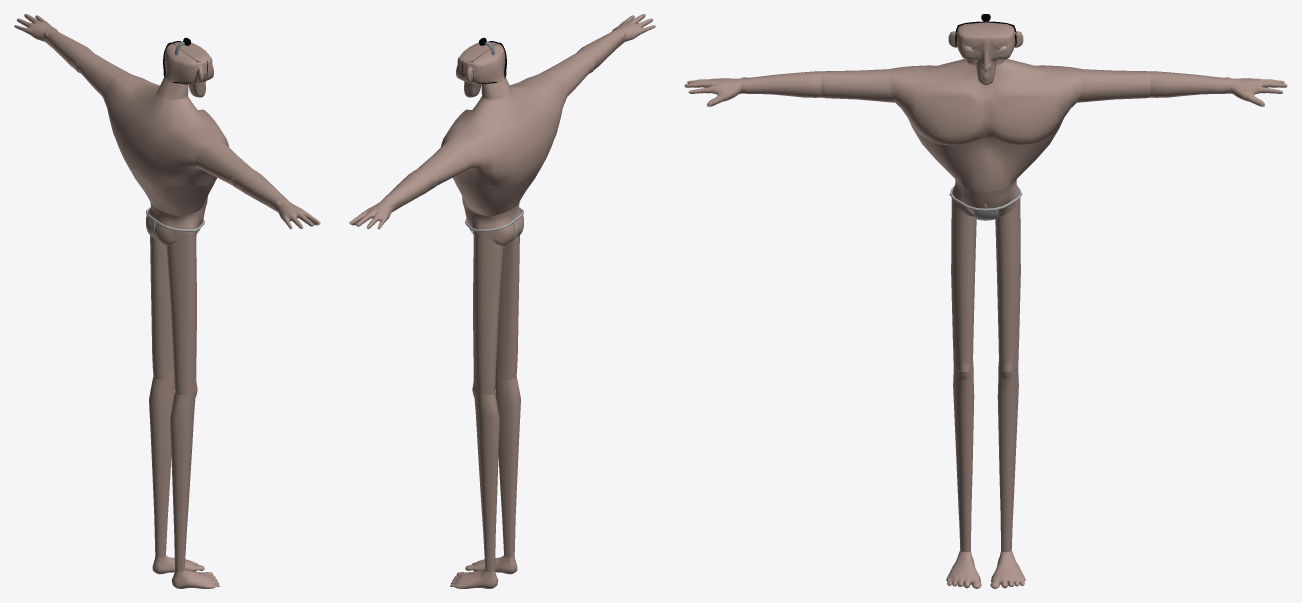
The model's file is SAMURAI_v01.fbx.
3 renders of one model, left to right at view 1: azimuth 30°, elevation 25°; view 2: azimuth 150°, elevation 25°; view 3: azimuth 270°, elevation 25°, orthographic. The views are drawn at different scales.
Parts seen in each view (by area): view 1: Body_Upper, Leg_R, Tibias_L, Tibias_R, Leg_L, Face, Body_Belly, Hips, Biceps_R, Forearm_R, Biceps_L, Forearm_L (+4 smaller); view 2: Body_Upper, Leg_L, Tibias_R, Tibias_L, Leg_R, Face, Body_Belly, Hips, Biceps_L, Forearm_L, Biceps_R, Forearm_R (+4 smaller); view 3: Body_Upper, Body_Belly, Leg_L, Leg_R, Tibias_L, Tibias_R, Face, Biceps_L, Biceps_R, Forearm_L, Forearm_R, Hips (+4 smaller).
Part boxes in pixels (x1,y1,x2,y2): Body_Upper: [103, 73, 228, 187]; Leg_R: [166, 237, 197, 395]; Tibias_L: [149, 376, 174, 557]; Tibias_R: [170, 390, 197, 571]; Leg_L: [150, 235, 174, 379]; Face: [164, 42, 213, 97]; Body_Belly: [128, 166, 216, 216]; Hips: [146, 202, 206, 245]; Biceps_R: [195, 140, 251, 185]; Forearm_R: [232, 166, 288, 212]; Biceps_L: [75, 52, 130, 96]; Forearm_L: [43, 29, 93, 70]; Body_Upper: [441, 73, 566, 187]; Leg_L: [472, 237, 503, 395]; Tibias_R: [495, 376, 520, 557]; Tibias_L: [472, 390, 499, 571]; Leg_R: [495, 235, 519, 379]; Face: [456, 42, 505, 97]; Body_Belly: [453, 166, 541, 216]; Hips: [463, 202, 523, 245]; Biceps_L: [418, 140, 474, 185]; Forearm_L: [381, 166, 437, 212]; Biceps_R: [539, 52, 594, 96]; Forearm_R: [576, 29, 626, 70]; Body_Upper: [889, 58, 1082, 145]; Body_Belly: [913, 129, 1058, 191]; Leg_L: [995, 201, 1020, 371]; Leg_R: [951, 201, 976, 371]; Tibias_L: [997, 366, 1018, 552]; Tibias_R: [953, 366, 974, 552]; Face: [948, 22, 1023, 85]; Biceps_L: [1077, 69, 1150, 102]; Biceps_R: [821, 69, 894, 102]; Forearm_L: [1149, 71, 1231, 97]; Forearm_R: [740, 71, 822, 97]; Hips: [951, 179, 1020, 216].
Size of the model in its own units: 0.8421 by 5.75 by 5.56.
